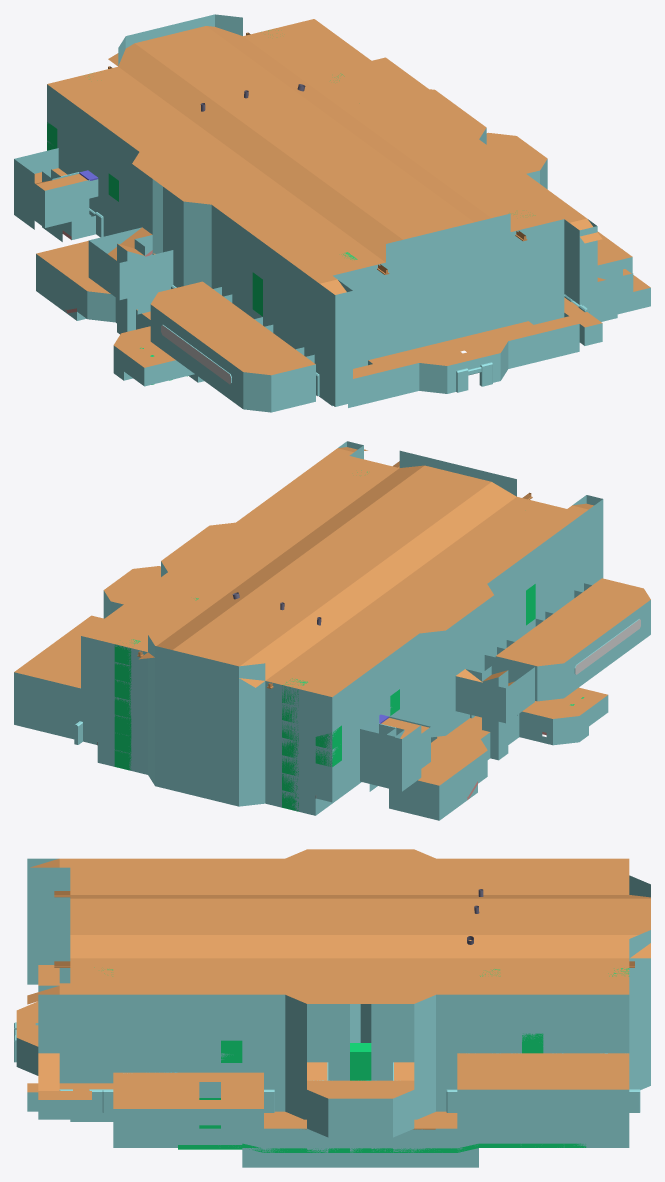
Rendered from Arena_002_Walls.fbx.
The picture shows the model from 3 angles, top to bottom: view 1: azimuth 30°, elevation 25°; view 2: azimuth 150°, elevation 25°; view 3: azimuth 270°, elevation 25°; orthographic projection. The views are drawn at different scales.
Visible parts, largest first — view 1: Arena_002_Walls; view 2: Arena_002_Walls; view 3: Arena_002_Walls.
Boxes of the visible parts, box(x1,y1,x2,y2) form: Arena_002_Walls: box(14, 14, 650, 412); Arena_002_Walls: box(14, 441, 650, 820); Arena_002_Walls: box(14, 849, 650, 1167).
Size of the model in its own units: 10200 by 3700 by 11850.
